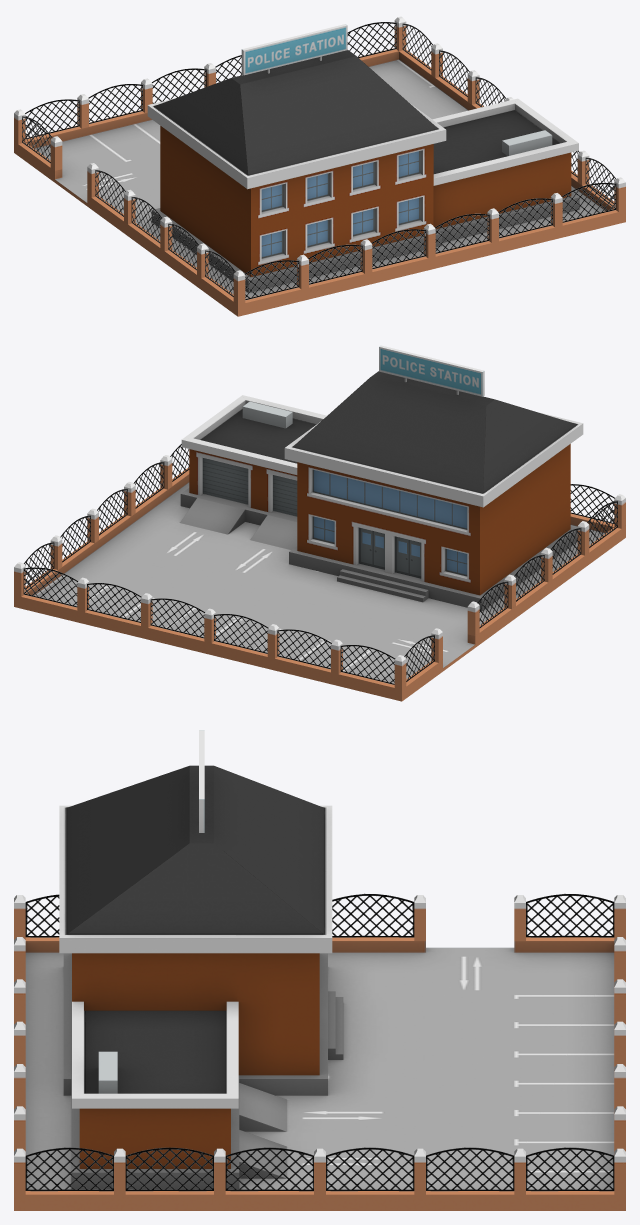
File: HOS0610004.fbx
3 renders of one model, top to bottom at view 1: azimuth 30°, elevation 25°; view 2: azimuth 150°, elevation 25°; view 3: azimuth 270°, elevation 25°, orthographic. The views are drawn at different scales.
Parts seen in each view (by area): view 1: smHOS0610004; view 2: smHOS0610004; view 3: smHOS0610004.
Boxes of the visible parts, x1,y1,x2,y2 form: smHOS0610004: [14, 16, 625, 316]; smHOS0610004: [14, 345, 625, 701]; smHOS0610004: [14, 730, 625, 1210].
Size of what is drawn, in the model's own units: 2944 by 1440 by 2944.
Materials: 1 (1 with a texture image).
